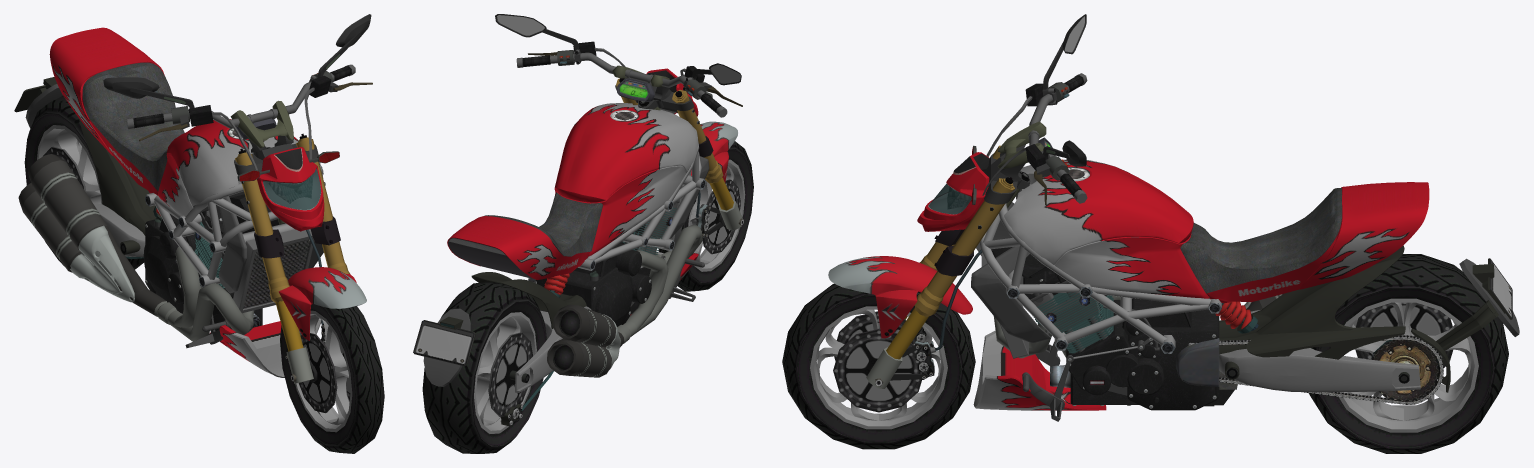
The model's file is Motorbike 2.FBX.
3 renders of one model, left to right at view 1: azimuth 30°, elevation 25°; view 2: azimuth 150°, elevation 25°; view 3: azimuth 270°, elevation 25°, orthographic. The views are drawn at different scales.
Visible parts, largest first — view 1: Body, Steer, Wheel_F, forks_rear, Mudguard, Wheel_B; view 2: Body, Wheel_B, Steer, forks_rear, Wheel_F, Mudguard; view 3: Body, Wheel_B, forks_rear, Wheel_F, Steer, Mudguard.
Part boxes in pixels (left/top/right/bottom): Body: left=18, top=27, right=323, bottom=377; Steer: left=103, top=14, right=372, bottom=302; Wheel_F: left=280, top=304, right=384, bottom=453; forks_rear: left=14, top=77, right=161, bottom=259; Mudguard: left=275, top=229, right=366, bottom=383; Wheel_B: left=24, top=96, right=143, bottom=269; Body: left=447, top=103, right=709, bottom=377; Wheel_B: left=422, top=282, right=546, bottom=453; Steer: left=495, top=14, right=742, bottom=183; forks_rear: left=413, top=272, right=591, bottom=426; Wheel_F: left=658, top=141, right=753, bottom=291; Mudguard: left=691, top=121, right=743, bottom=237; Body: left=971, top=159, right=1429, bottom=421; Wheel_B: left=1308, top=254, right=1508, bottom=453; forks_rear: left=1188, top=245, right=1519, bottom=404; Wheel_F: left=782, top=283, right=975, bottom=449; Steer: left=914, top=14, right=1087, bottom=317; Mudguard: left=828, top=249, right=982, bottom=388.
Size of the model in its own units: 63.89 by 75.7 by 139.
7 materials, 5 textured.
